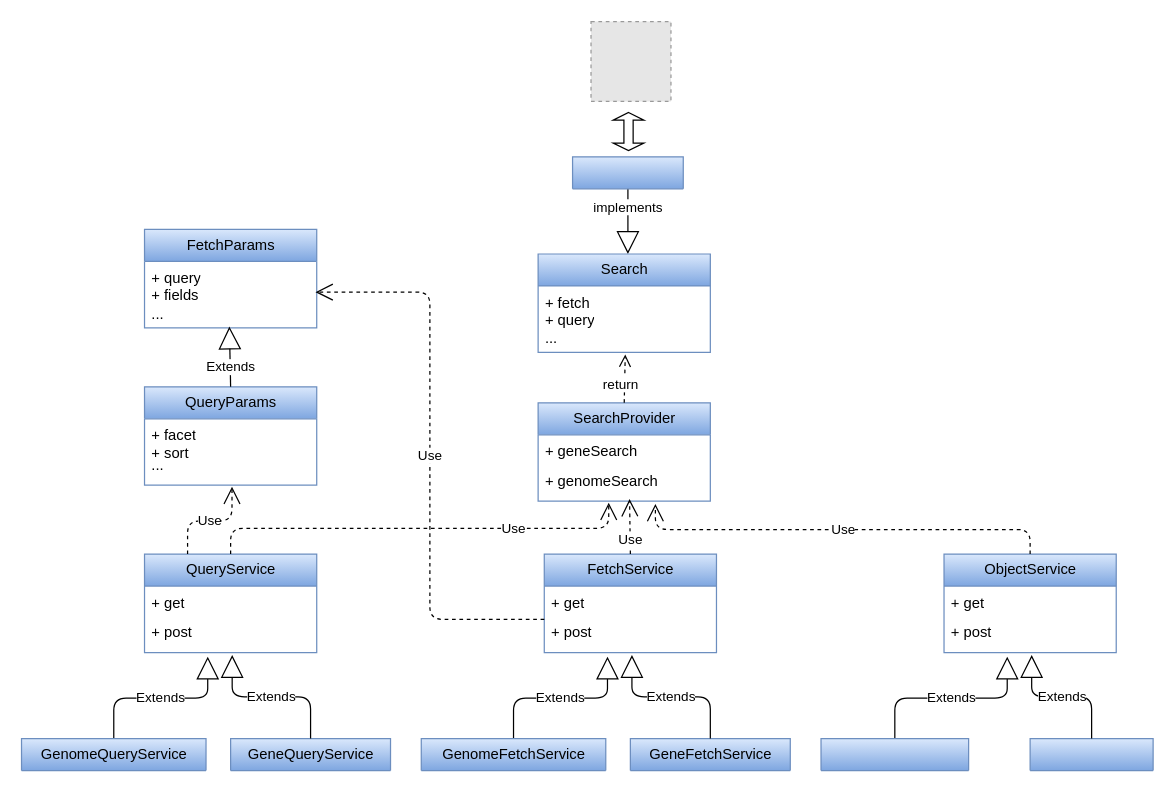
Image size: 1175x792. Some labels were removed from this diagram. Grey dashed boxes stand in for pictures. Here are the shapes that lost their labels. From the top down, the centre of each, then its label:
At point 627,172: "ESSearch".
At point 894,754: "GenomeService".
At point 1091,754: "GeneService".
